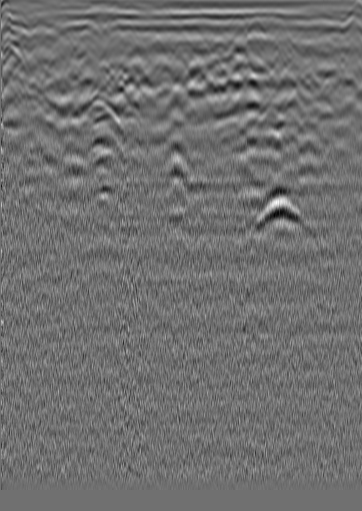가스: (88, 181, 120, 208)
상수: (322, 39, 342, 59)
오수: (21, 33, 41, 53)
우수: (195, 35, 215, 55)
